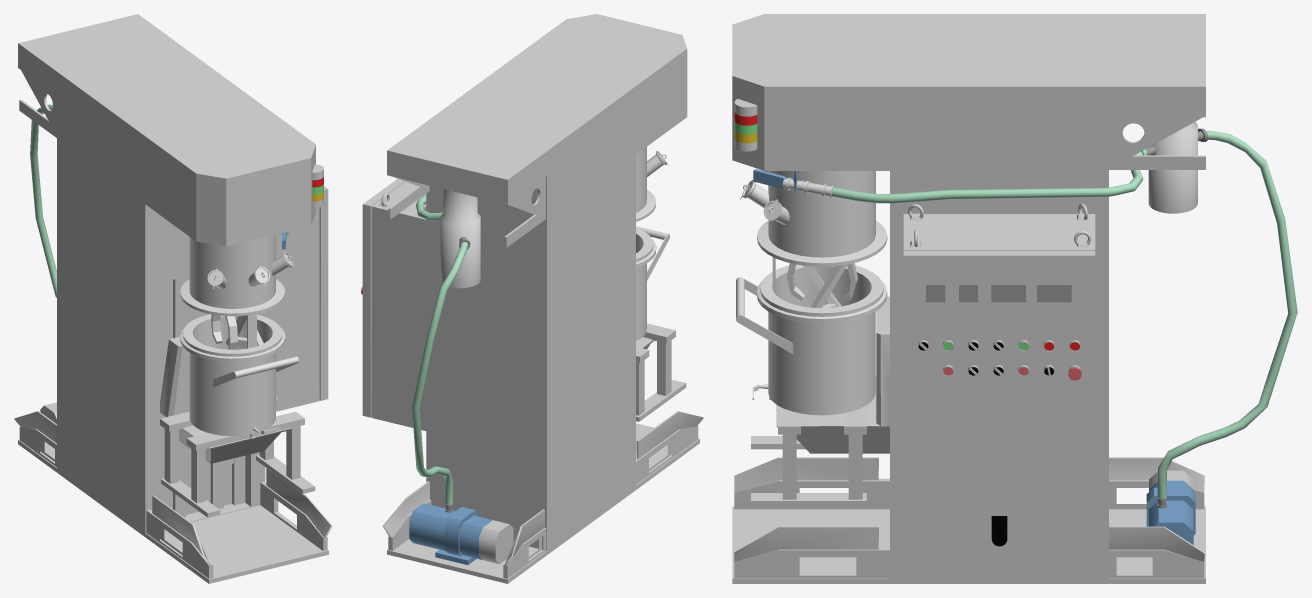
File: 믹싱고정기기 (1).fbx
The picture shows the model from 3 angles, left to right: view 1: azimuth 30°, elevation 25°; view 2: azimuth 150°, elevation 25°; view 3: azimuth 270°, elevation 25°; orthographic projection. The views are drawn at different scales.
Visible parts, largest first — view 1: 몸통, 아랫통, 의자, 윗통, 삼발이; view 2: 몸통, 의자, 아랫통, 윗통; view 3: 몸통, 아랫통, 윗통, 의자, 삼발이, 버튼.
Boxes of the visible parts, x1,y1,x2,y2 form: 몸통: [14, 14, 332, 583]; 아랫통: [180, 314, 298, 438]; 의자: [160, 336, 315, 517]; 윗통: [180, 231, 295, 348]; 삼발이: [211, 314, 263, 349]; 몸통: [362, 14, 703, 583]; 의자: [636, 323, 686, 421]; 아랫통: [636, 226, 669, 340]; 윗통: [416, 147, 668, 221]; 몸통: [732, 14, 1297, 583]; 아랫통: [736, 264, 887, 415]; 윗통: [740, 149, 1147, 293]; 의자: [751, 296, 889, 506]; 삼발이: [786, 263, 857, 308]; 버튼: [968, 340, 1081, 380].
Bounding box in the file's own units: 534 × 1021 × 1052.
